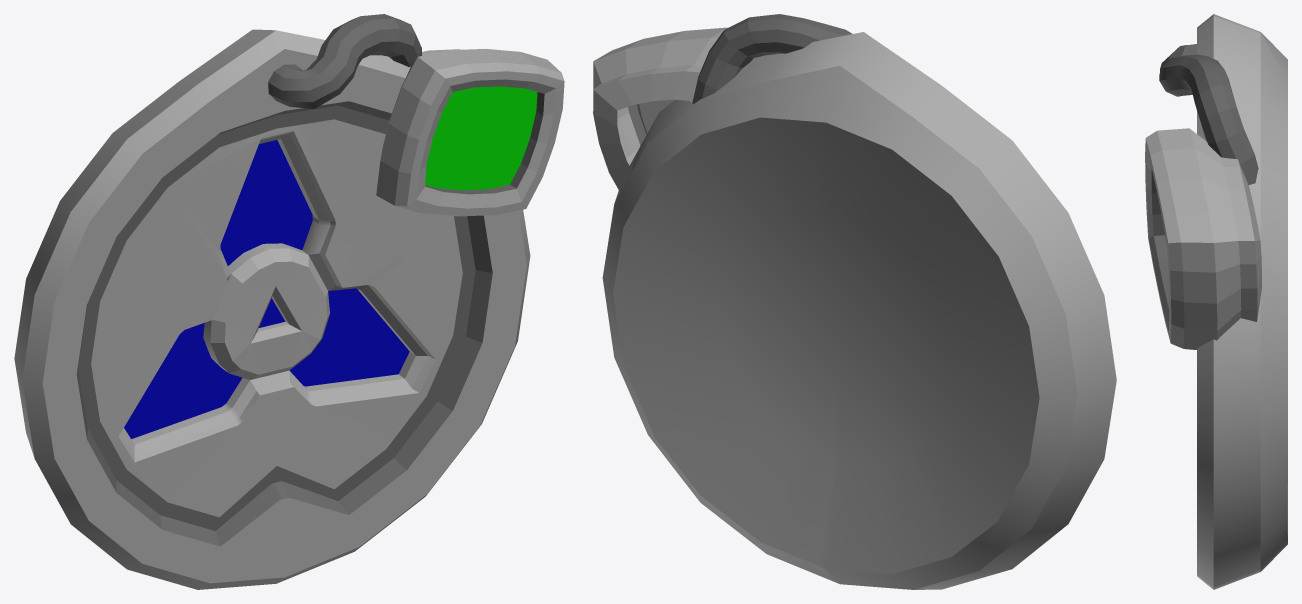
File: clawPanelFF_FBX.fbx
3 views of the same model, side by side, from view 1: azimuth 30°, elevation 25°; view 2: azimuth 150°, elevation 25°; view 3: azimuth 270°, elevation 25° (orthographic).
Visible parts, largest first — view 1: Main_Plate, Television, Wire, Scanplate1, Scanplate, Scanplate3; view 2: Main_Plate, Television, Wire; view 3: Main_Plate, Television, Wire.
Boxes of the visible parts, x1,y1,x2,y2 form: Main_Plate: (14,29,530,589); Television: (376,48,564,216); Wire: (268,14,421,108); Scanplate1: (276,288,409,386); Scanplate: (220,140,312,265); Scanplate3: (124,323,242,438); Main_Plate: (602,32,1116,589); Television: (593,27,727,191); Wire: (692,14,852,104); Main_Plate: (1197,14,1287,589); Television: (1145,128,1261,349); Wire: (1159,44,1258,184).
Size of the model in its own units: 5.49 by 5.52 by 1.31.
